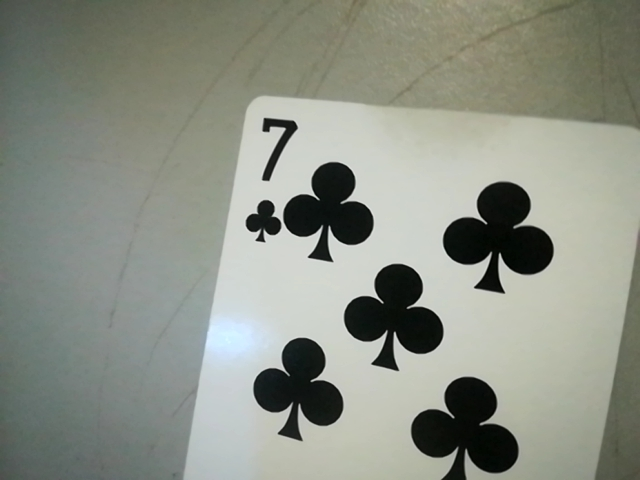mh 7: (236, 110, 296, 247)
